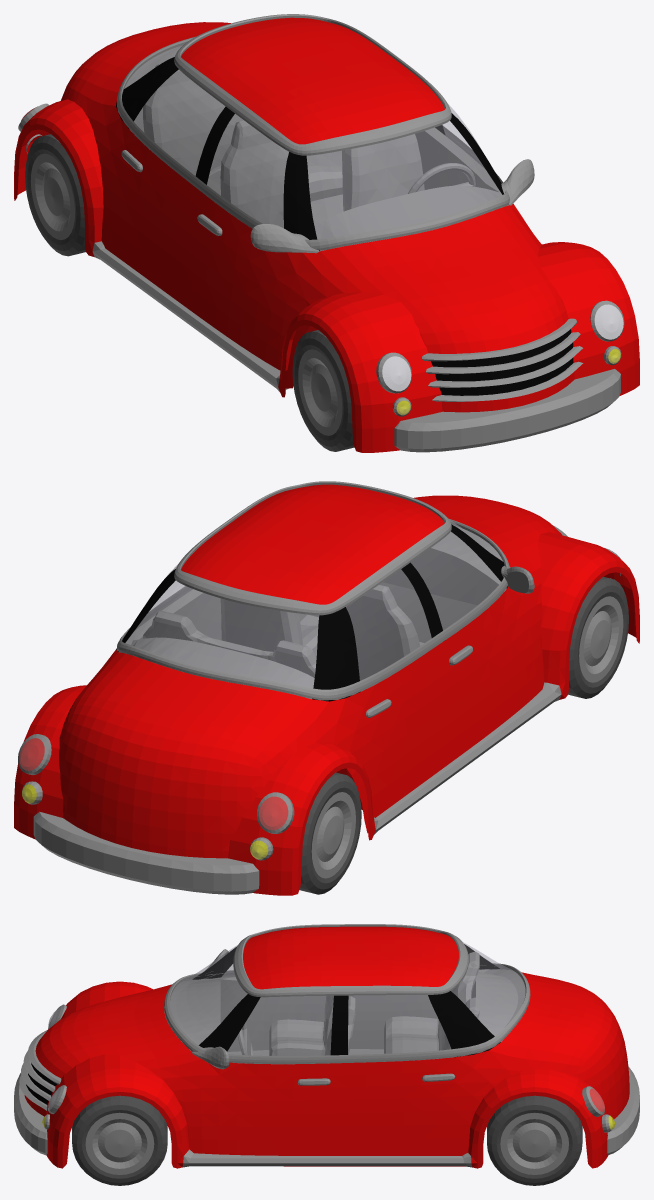
File: sweethome3d-katorlegaz-concept-sedan-01-74.glb
3 renders of one model, top to bottom at view 1: azimuth 30°, elevation 25°; view 2: azimuth 150°, elevation 25°; view 3: azimuth 270°, elevation 25°, orthographic. The views are drawn at different scales.
Parts seen in each view (by area): view 1: Car_body.001_Mesh.001_Car, Car_body.001_Mesh.001_Glass, Car_fenders_Car_fenders_Car, Car_body.002_Mesh.002_Chrome, Front_seats_Front_seats_Interior, Car_body.001_Mesh.001_Black_matte, Bumper_Bumper_Chrome, Interior_Interior_Interior, Rear_seats_Rear_seats_Interior, Grill_Grill_Chrome, Car_fenders_Car_fenders_Chrome, Tire.001_Tire.001_Chrome (+9 smaller); view 2: Car_body.001_Mesh.001_Car, Car_body.001_Mesh.001_Glass, Car_fenders_Car_fenders_Car, Interior_Interior_Interior, Car_body.002_Mesh.002_Chrome, Bumper_Bumper_Chrome, Front_seats_Front_seats_Interior, Car_body.001_Mesh.001_Black_matte, Car_fenders_Car_fenders_Chrome, Rear_seats_Rear_seats_Interior, Tire.001_Tire.001_Chrome, Tire.002_Tire.002_Chrome (+5 smaller); view 3: Car_body.001_Mesh.001_Car, Car_body.001_Mesh.001_Glass, Car_fenders_Car_fenders_Car, Interior_Interior_Interior, Car_body.002_Mesh.002_Chrome, Car_body.001_Mesh.001_Black_matte, Tire_Tire_Tire_Rubber, Tire.003_Tire.003_Tire_Rubber, Tire_Tire_Chrome, Tire.003_Tire.003_Chrome, Car_fenders_Car_fenders_Chrome, Rear_seats_Rear_seats_Interior (+5 smaller).
Part boxes in pixels (<box>): Car_body.001_Mesh.001_Car: <box>61,17,574,412</box>; Car_body.001_Mesh.001_Glass: <box>124,44,507,250</box>; Car_fenders_Car_fenders_Car: <box>14,99,639,452</box>; Car_body.002_Mesh.002_Chrome: <box>117,14,509,250</box>; Front_seats_Front_seats_Interior: <box>220,120,424,227</box>; Car_body.001_Mesh.001_Black_matte: <box>116,57,573,395</box>; Bumper_Bumper_Chrome: <box>394,369,620,452</box>; Interior_Interior_Interior: <box>124,45,508,251</box>; Rear_seats_Rear_seats_Interior: <box>143,64,342,201</box>; Grill_Grill_Chrome: <box>422,318,583,401</box>; Car_fenders_Car_fenders_Chrome: <box>92,241,287,391</box>; Tire.001_Tire.001_Chrome: <box>298,349,342,435</box>; Car_body.001_Mesh.001_Car: <box>59,484,561,858</box>; Car_body.001_Mesh.001_Glass: <box>126,519,506,698</box>; Car_fenders_Car_fenders_Car: <box>14,532,639,895</box>; Interior_Interior_Interior: <box>119,525,506,699</box>; Car_body.002_Mesh.002_Chrome: <box>117,481,509,700</box>; Bumper_Bumper_Chrome: <box>33,811,259,894</box>; Front_seats_Front_seats_Interior: <box>220,584,420,680</box>; Car_body.001_Mesh.001_Black_matte: <box>116,524,507,701</box>; Car_fenders_Car_fenders_Chrome: <box>374,682,561,834</box>; Rear_seats_Rear_seats_Interior: <box>143,611,316,677</box>; Tire.001_Tire.001_Chrome: <box>579,596,623,682</box>; Tire.002_Tire.002_Chrome: <box>311,792,355,878</box>; Car_body.001_Mesh.001_Car: <box>24,926,629,1166</box>; Car_body.001_Mesh.001_Glass: <box>170,942,525,1055</box>; Car_fenders_Car_fenders_Car: <box>46,981,608,1168</box>; Interior_Interior_Interior: <box>164,969,529,1064</box>; Car_body.002_Mesh.002_Chrome: <box>164,924,530,1064</box>; Car_body.001_Mesh.001_Black_matte: <box>26,944,500,1104</box>; Tire_Tire_Tire_Rubber: <box>72,1095,167,1185</box>; Tire.003_Tire.003_Tire_Rubber: <box>487,1095,582,1185</box>; Tire_Tire_Chrome: <box>85,1112,154,1174</box>; Tire.003_Tire.003_Chrome: <box>500,1112,568,1174</box>; Car_fenders_Car_fenders_Chrome: <box>182,1149,472,1167</box>; Rear_seats_Rear_seats_Interior: <box>384,951,479,1053</box>.
Size of the model in its own units: 10.42 by 8.45 by 25.69.
